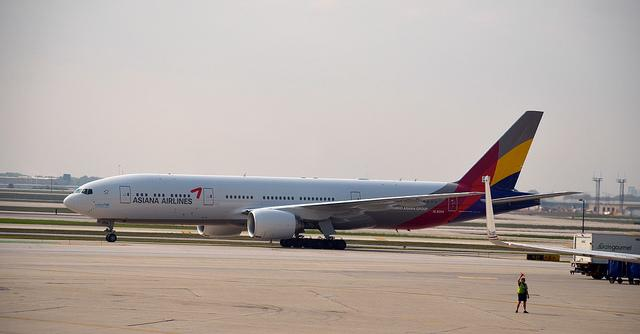airplane: (61, 109, 585, 251)
